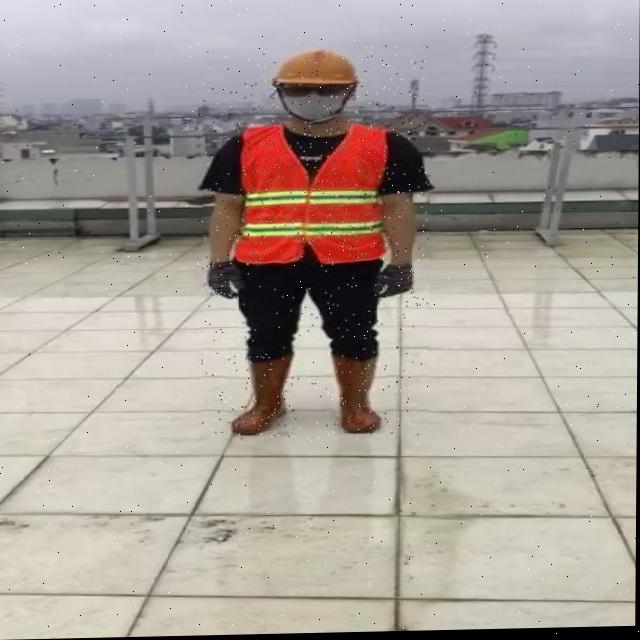Gloves: (208, 260, 247, 300), (378, 263, 416, 299)
Helmet: (271, 50, 359, 126)
Safety-Boot: (233, 354, 294, 436), (334, 351, 383, 435)
Safety-Vest: (234, 122, 392, 268)
